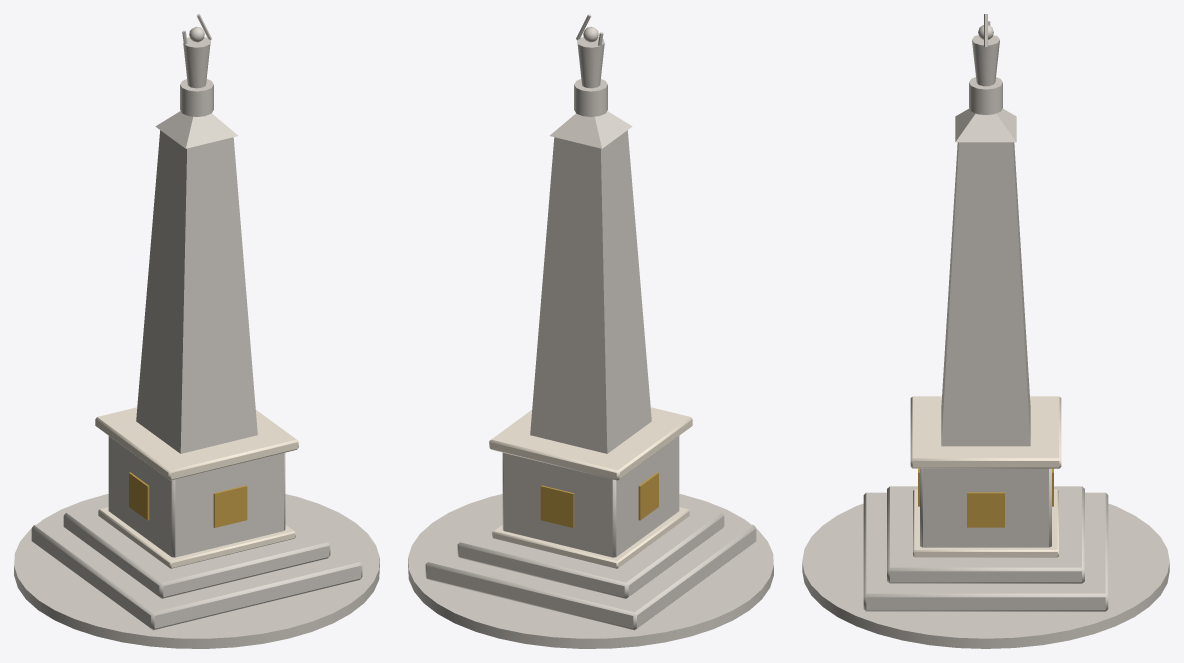
The model's file is monument.fbx.
The picture shows the model from 3 angles, left to right: view 1: azimuth 30°, elevation 25°; view 2: azimuth 150°, elevation 25°; view 3: azimuth 270°, elevation 25°; orthographic projection.
Visible parts, largest first — view 1: monument; view 2: monument; view 3: monument.
Part boxes in pixels (x1,y1,x2,y2): monument: [14, 14, 379, 648]; monument: [408, 14, 773, 648]; monument: [802, 14, 1169, 648].
Size of the model in its own units: 7.8 by 13.08 by 7.8.
